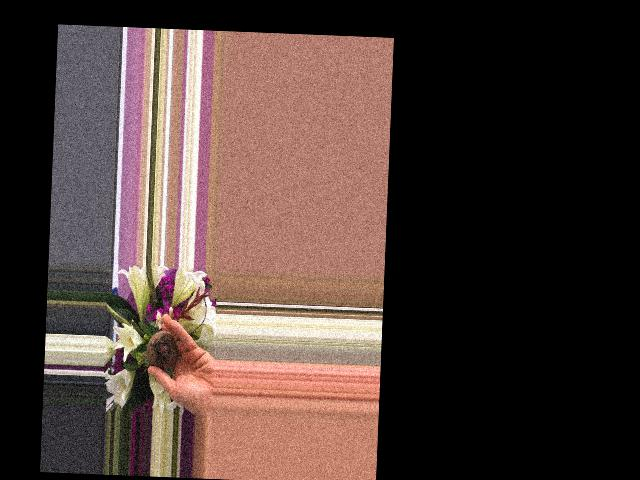beet: (145, 329, 179, 370)
